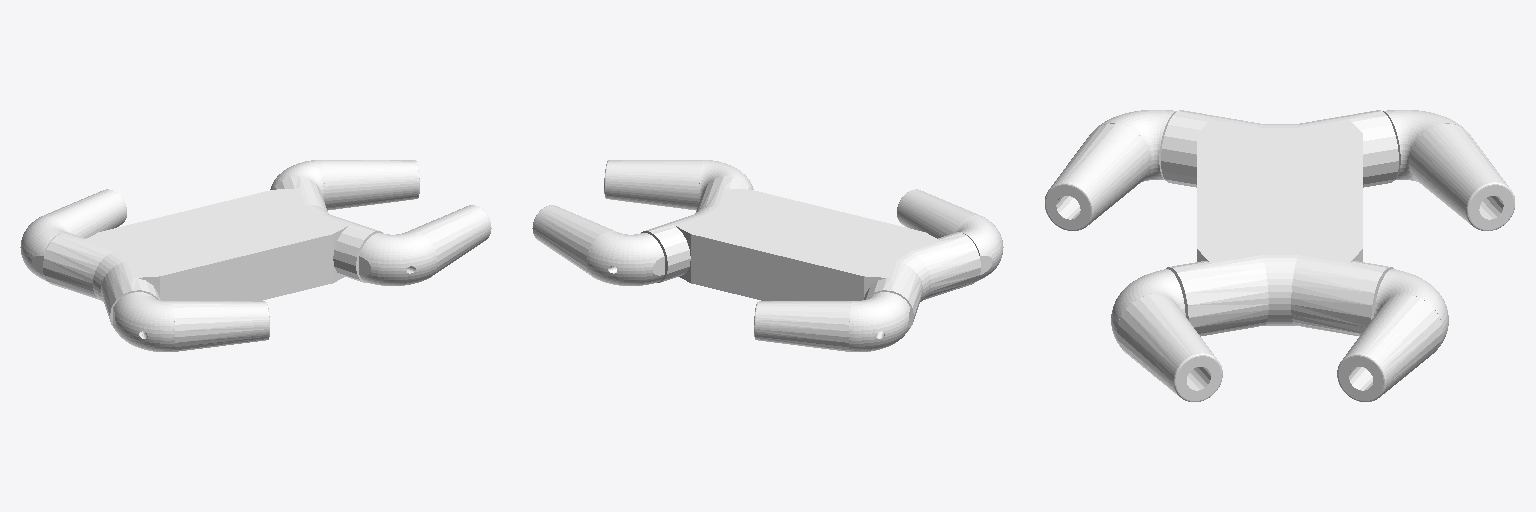
URDF robot description (22_degree):
<?xml version="1.0" encoding="utf-8"?>
<!-- This URDF was automatically created by SolidWorks to URDF Exporter! Originally created by [author] ([email redacted]) 
     Commit Version: 1.5.1-0-g916b5db  Build Version: 1.5.7152.31018
     For more information, please see http://wiki.ros.org/sw_urdf_exporter -->
<robot
  name="22_degree">
  <link
    name="base_link">
    <inertial>
      <origin
        xyz="-6.9389E-18 6.8017E-08 3.4694E-18"
        rpy="0 0 0" />
      <mass
        value="2.942" />
      <inertia
        ixx="0.0102855"
        ixy="4.6321E-19"
        ixz="-1.0016E-08"
        iyy="0.0457789"
        iyz="4.9561E-18"
        izz="0.0534283" />
    </inertial>
    <visual>
      <origin
        xyz="0 0 0"
        rpy="0 0 0" />
      <geometry>
        <mesh
          filename="package://22_degree/meshes/base_link.STL" />
      </geometry>
      <material
        name="">
        <color
          rgba="1 1 1 1" />
      </material>
    </visual>
    <collision>
      <origin
        xyz="0 0 0"
        rpy="0 0 0" />
      <geometry>
        <mesh
          filename="package://22_degree/meshes/base_link.STL" />
      </geometry>
    </collision>
  </link>
  <link
    name="left_front_link">
    <inertial>
      <origin
        xyz="-9.5326E-08 0.056833 -0.03601"
        rpy="0 0 0" />
      <mass
        value="0.095" />
      <inertia
        ixx="0.0002672"
        ixy="5.8516E-10"
        ixz="3.1552E-10"
        iyy="0.0000540"
        iyz="2.33E-05"
        izz="0.0002642" />
    </inertial>
    <visual>
      <origin
        xyz="0 0 0"
        rpy="0 0 0" />
      <geometry>
        <mesh
          filename="package://22_degree/meshes/left_front_link.STL" />
      </geometry>
      <material
        name="">
        <color
          rgba="1 1 1 1" />
      </material>
    </visual>
    <collision>
      <origin
        xyz="0 0 0"
        rpy="0 0 0" />
      <geometry>
        <mesh
          filename="package://22_degree/meshes/left_front_link.STL" />
      </geometry>
    </collision>
  </link>
  <joint
    name="left_front_leg"
    type="continuous">
    <origin
      xyz="0.16858 0.0955 0"
      rpy="1.9548 1.5708 0" />
    <parent
      link="base_link" />
    <child
      link="left_front_link" />
    <axis
      xyz="0 0 -1" />
    <limit
      effort="5"
      velocity="487" />
  </joint>
  <link
    name="right_front_link">
    <inertial>
      <origin
        xyz="9.5326E-08 0.056833 0.03601"
        rpy="0 0 0" />
      <mass
        value="0.095" />
      <inertia
        ixx="0.0002672"
        ixy="-5.8516E-10"
        ixz="3.1552E-10"
        iyy="0.0000540"
        iyz="-2.33E-05"
        izz="0.0002642" />
    </inertial>
    <visual>
      <origin
        xyz="0 0 0"
        rpy="0 0 0" />
      <geometry>
        <mesh
          filename="package://22_degree/meshes/right_front_link.STL" />
      </geometry>
      <material
        name="">
        <color
          rgba="1 1 1 1" />
      </material>
    </visual>
    <collision>
      <origin
        xyz="0 0 0"
        rpy="0 0 0" />
      <geometry>
        <mesh
          filename="package://22_degree/meshes/right_front_link.STL" />
      </geometry>
    </collision>
  </link>
  <joint
    name="right_front_leg"
    type="continuous">
    <origin
      xyz="0.16858 -0.0955 0"
      rpy="1.1868 1.5708 0" />
    <parent
      link="base_link" />
    <child
      link="right_front_link" />
    <axis
      xyz="0 0 1" />
    <limit
      effort="5"
      velocity="487" />
  </joint>
  <link
    name="right_back_link">
    <inertial>
      <origin
        xyz="8.4912E-08 0.056834 0.03601"
        rpy="0 0 0" />
      <mass
        value="0.095" />
      <inertia
        ixx="0.0002672"
        ixy="-4.8449E-10"
        ixz="5.8747E-10"
        iyy="0.0000540"
        iyz="-2.33E-05"
        izz="0.0002642" />
    </inertial>
    <visual>
      <origin
        xyz="0 0 0"
        rpy="0 0 0" />
      <geometry>
        <mesh
          filename="package://22_degree/meshes/right_back_link.STL" />
      </geometry>
      <material
        name="">
        <color
          rgba="1 1 1 1" />
      </material>
    </visual>
    <collision>
      <origin
        xyz="0 0 0"
        rpy="0 0 0" />
      <geometry>
        <mesh
          filename="package://22_degree/meshes/right_back_link.STL" />
      </geometry>
    </collision>
  </link>
  <joint
    name="right_back_leg"
    type="continuous">
    <origin
      xyz="-0.16858 -0.0955 0"
      rpy="1.9548 1.5708 0" />
    <parent
      link="base_link" />
    <child
      link="right_back_link" />
    <axis
      xyz="0 0 1" />
    <limit
      effort="5"
      velocity="487" />
  </joint>
  <link
    name="left_back_link">
    <inertial>
      <origin
        xyz="-8.4912E-08 0.056834 -0.03601"
        rpy="0 0 0" />
      <mass
        value="0.095" />
      <inertia
        ixx="0.0002672"
        ixy="4.8449E-10"
        ixz="5.8747E-10"
        iyy="0.0000540"
        iyz="2.33E-05"
        izz="0.0002642" />
    </inertial>
    <visual>
      <origin
        xyz="0 0 0"
        rpy="0 0 0" />
      <geometry>
        <mesh
          filename="package://22_degree/meshes/left_back_link.STL" />
      </geometry>
      <material
        name="">
        <color
          rgba="1 1 1 1" />
      </material>
    </visual>
    <collision>
      <origin
        xyz="0 0 0"
        rpy="0 0 0" />
      <geometry>
        <mesh
          filename="package://22_degree/meshes/left_back_link.STL" />
      </geometry>
    </collision>
  </link>
  <joint
    name="left_back_leg"
    type="continuous">
    <origin
      xyz="-0.16858 0.0955 0"
      rpy="1.1868 1.5708 0" />
    <parent
      link="base_link" />
    <child
      link="left_back_link" />
    <axis
      xyz="0 0 -1" />
    <limit
      effort="5"
      velocity="487" />
  </joint>
</robot>

--- Facts derived from the render (not from the file) ---
Views: 3 orthographic renders of the robot side by side, from view 1: azimuth 30°, elevation 25°; view 2: azimuth 150°, elevation 25°; view 3: azimuth 270°, elevation 25°.
Robot: 22_degree — 5 links, 4 joints (4 continuous); root link base_link; default pose: all joints at 0.
Visible links, largest first — view 1: base_link, right_back_link, right_front_link, left_front_link, left_back_link; view 2: base_link, left_back_link, left_front_link, right_front_link, right_back_link; view 3: base_link, left_back_link, right_back_link, right_front_link, left_front_link.
Boxes of the visible links, <box> form: base_link: <box>43,176,382,330</box>; right_back_link: <box>113,292,269,351</box>; right_front_link: <box>359,205,491,285</box>; left_front_link: <box>270,160,419,210</box>; left_back_link: <box>20,189,126,280</box>; base_link: <box>641,176,980,330</box>; left_back_link: <box>754,292,910,351</box>; left_front_link: <box>532,205,664,285</box>; right_front_link: <box>604,160,753,210</box>; right_back_link: <box>897,189,1003,280</box>; base_link: <box>1161,110,1398,336</box>; left_back_link: <box>1383,110,1514,230</box>; right_back_link: <box>1045,110,1176,230</box>; right_front_link: <box>1111,269,1222,401</box>; left_front_link: <box>1337,269,1448,401</box>.
Bounding box of the posed robot: 0.5427 × 0.4274 × 0.0672 m (x, y, z).
5 mesh visuals loaded from 5 distinct referenced files (5 binary STL).